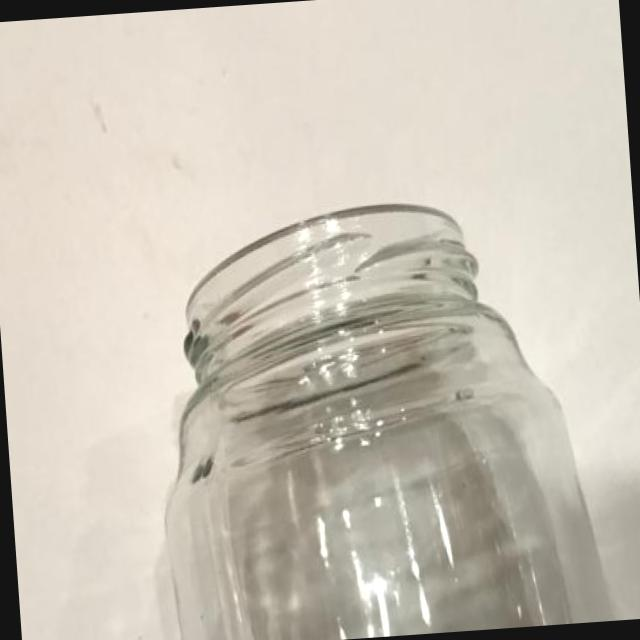chai_thuy_tinh: (153, 203, 616, 640)
